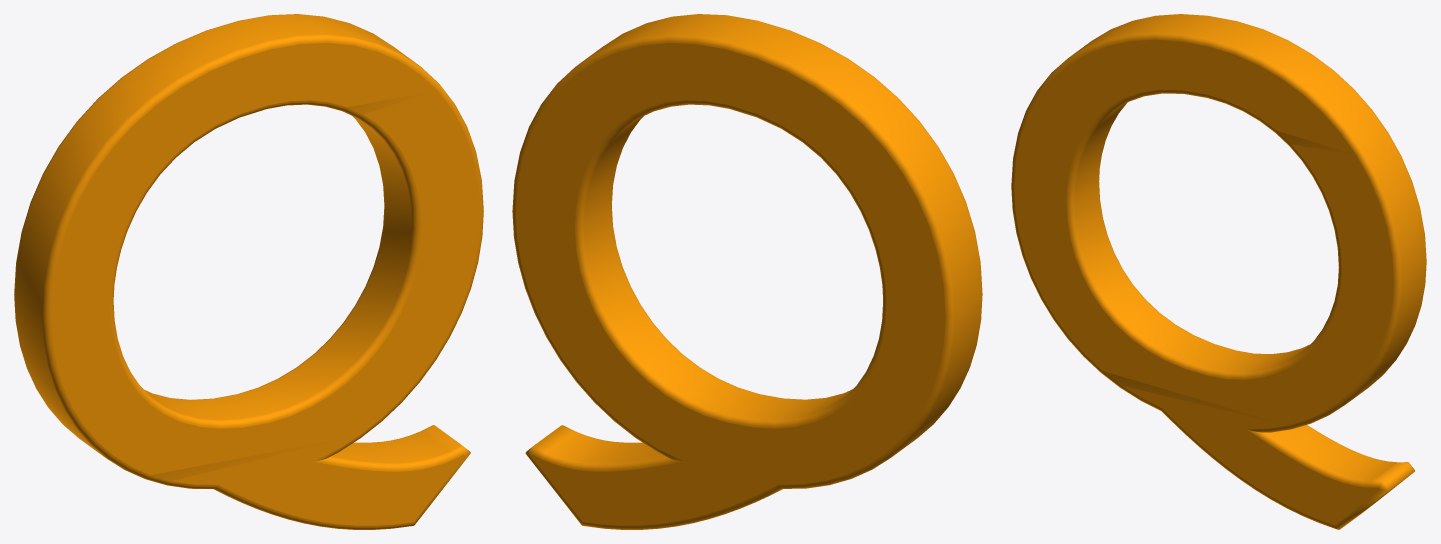
3 renders of one model, left to right at view 1: azimuth 30°, elevation 25°; view 2: azimuth 150°, elevation 25°; view 3: azimuth 330°, elevation 25°, orthographic. The views are drawn at different scales.
Visible parts, largest first — view 1: QQ; view 2: QQ; view 3: QQ.
Boxes of the visible parts, bbox=[...] form: QQ: bbox=[14, 14, 483, 529]; QQ: bbox=[512, 14, 982, 529]; QQ: bbox=[1011, 14, 1426, 529].
Bounding box in the file's own units: 0.444 × 0.5 × 0.0594.
